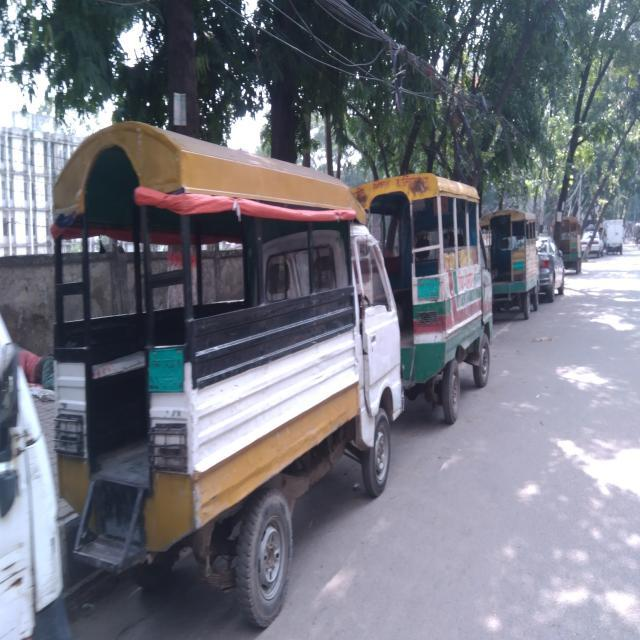Car: (488, 228, 578, 324), (568, 223, 613, 269)
Leguna: (16, 108, 410, 634), (321, 169, 512, 447), (466, 194, 549, 347)
